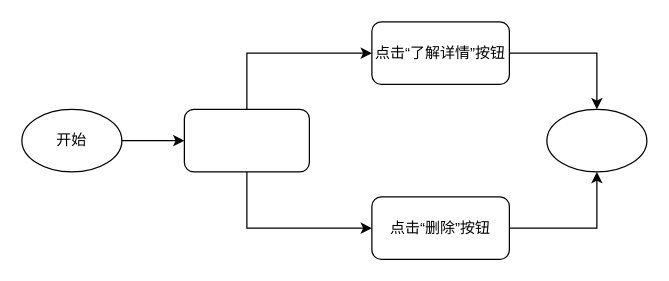
The diagram is 669 pixels wide and 281 high, and some of its shapes have lost their labels. Here are the shapes that lost their labels. From the top down, the centre of each, then its label:
At point (246, 140): "查看我的领养列表".
At point (596, 140): "结束".
